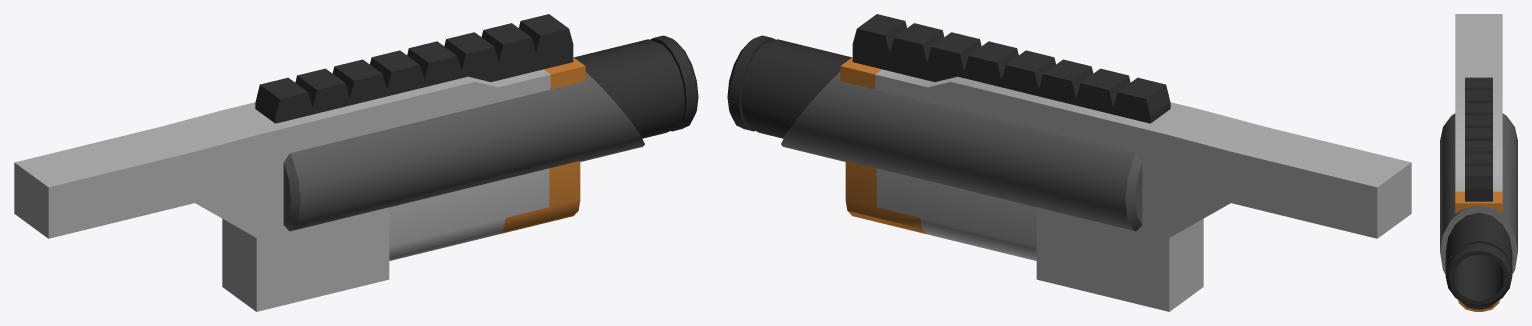
File: Barrel_Grenade_1.gltf
3 views of the same model, side by side, from view 1: azimuth 30°, elevation 25°; view 2: azimuth 150°, elevation 25°; view 3: azimuth 270°, elevation 25° (orthographic). The views are drawn at different scales.
Visible parts, largest first — view 1: Barrel_Grenade_1; view 2: Barrel_Grenade_1; view 3: Barrel_Grenade_1.
Boxes of the visible parts, x1,y1,x2,y2 form: Barrel_Grenade_1: (14, 14, 698, 311); Barrel_Grenade_1: (727, 14, 1411, 311); Barrel_Grenade_1: (1440, 14, 1517, 311).
Bounding box in the file's own units: 0.9726 × 0.2883 × 0.1459.
